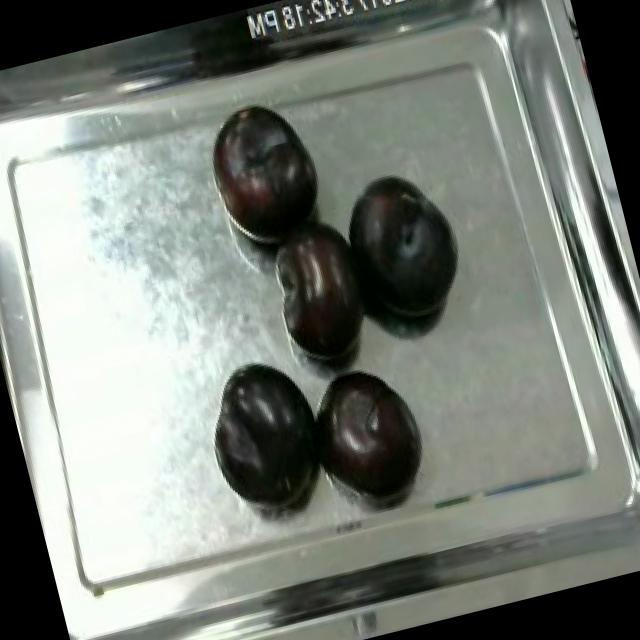Fruit: (327, 162, 477, 340), (195, 343, 344, 519), (193, 90, 335, 258), (262, 205, 387, 372), (308, 352, 437, 507)
